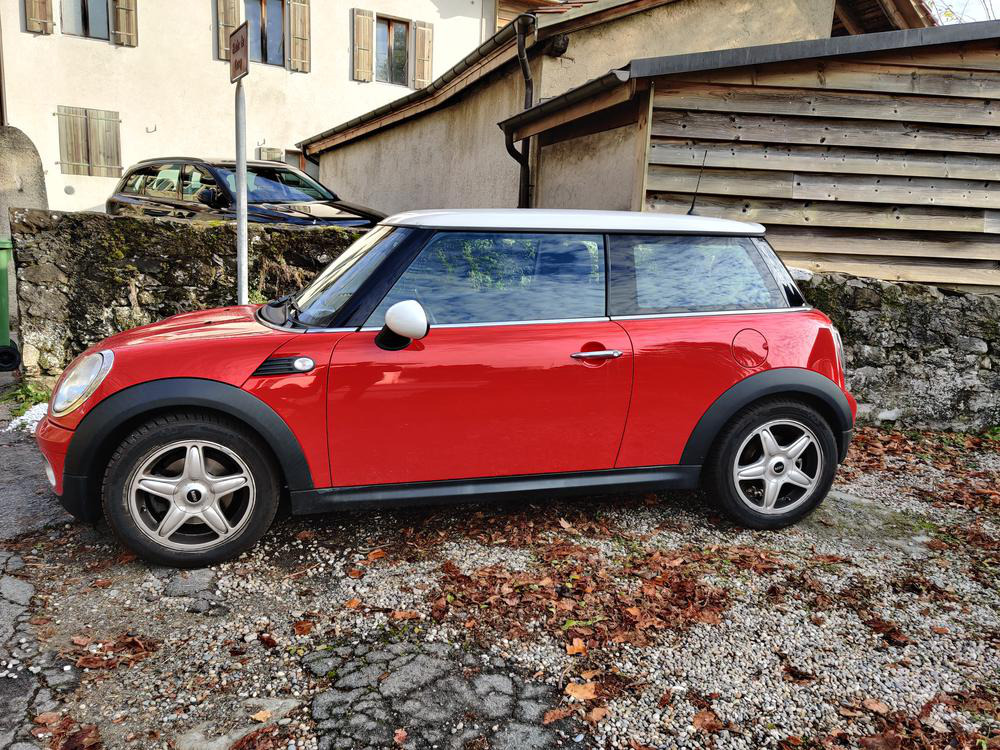mobil: (24, 200, 863, 570)
